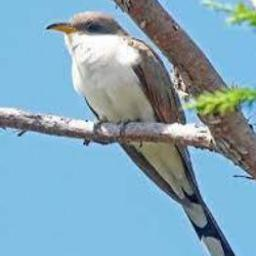Cuckoo: (44, 10, 247, 256)
